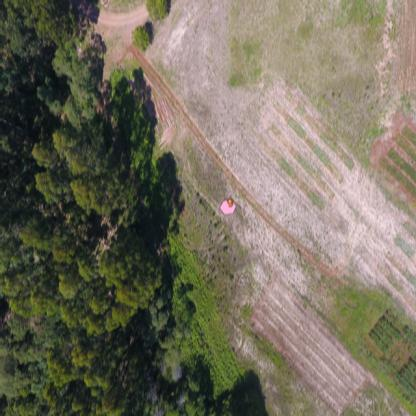9: (226, 196, 235, 209)
hexagon: (220, 196, 237, 216)
